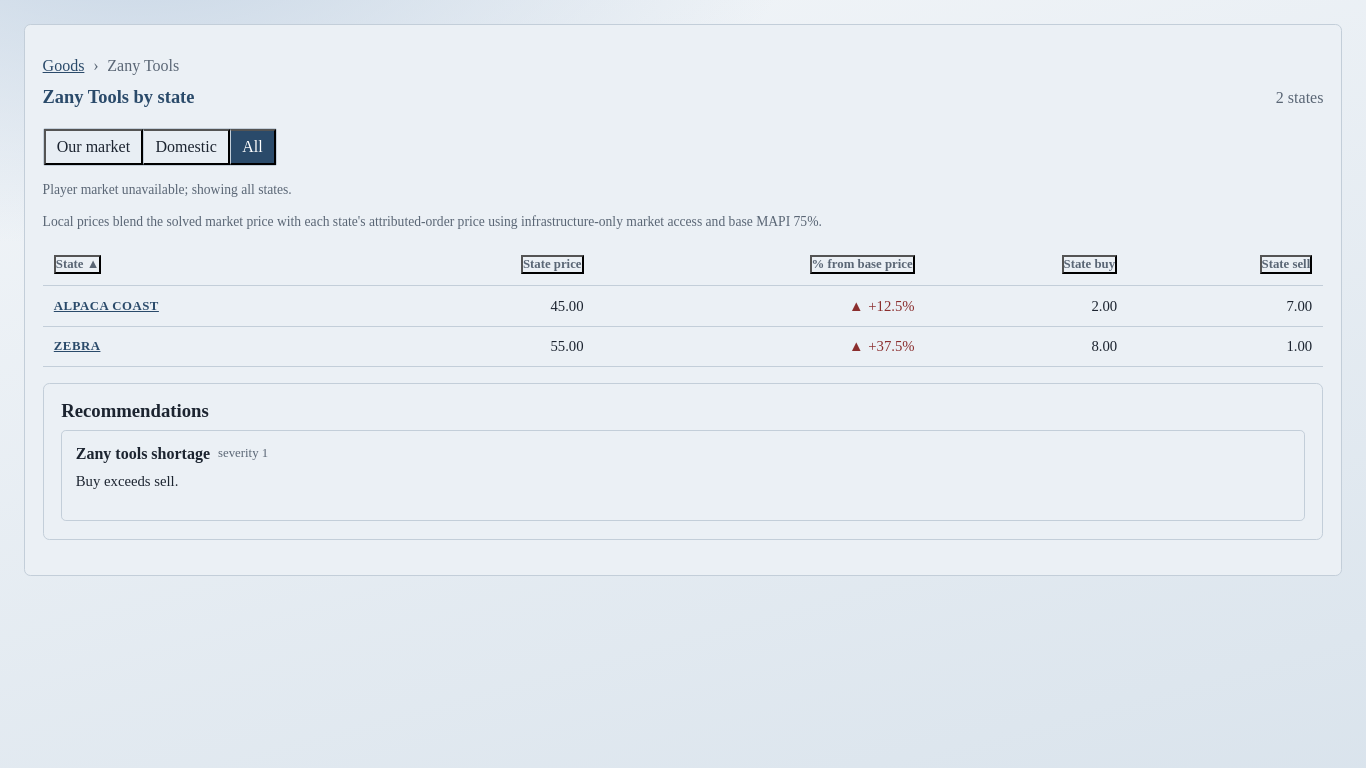
Scenario: PriceExplorer › shows local recommendations on a good page
expect the heading "Recommendations" is shown: met, box [61, 400, 209, 421]
Click the text "Zany tools shortage": click(143, 454) [76, 445, 210, 463]
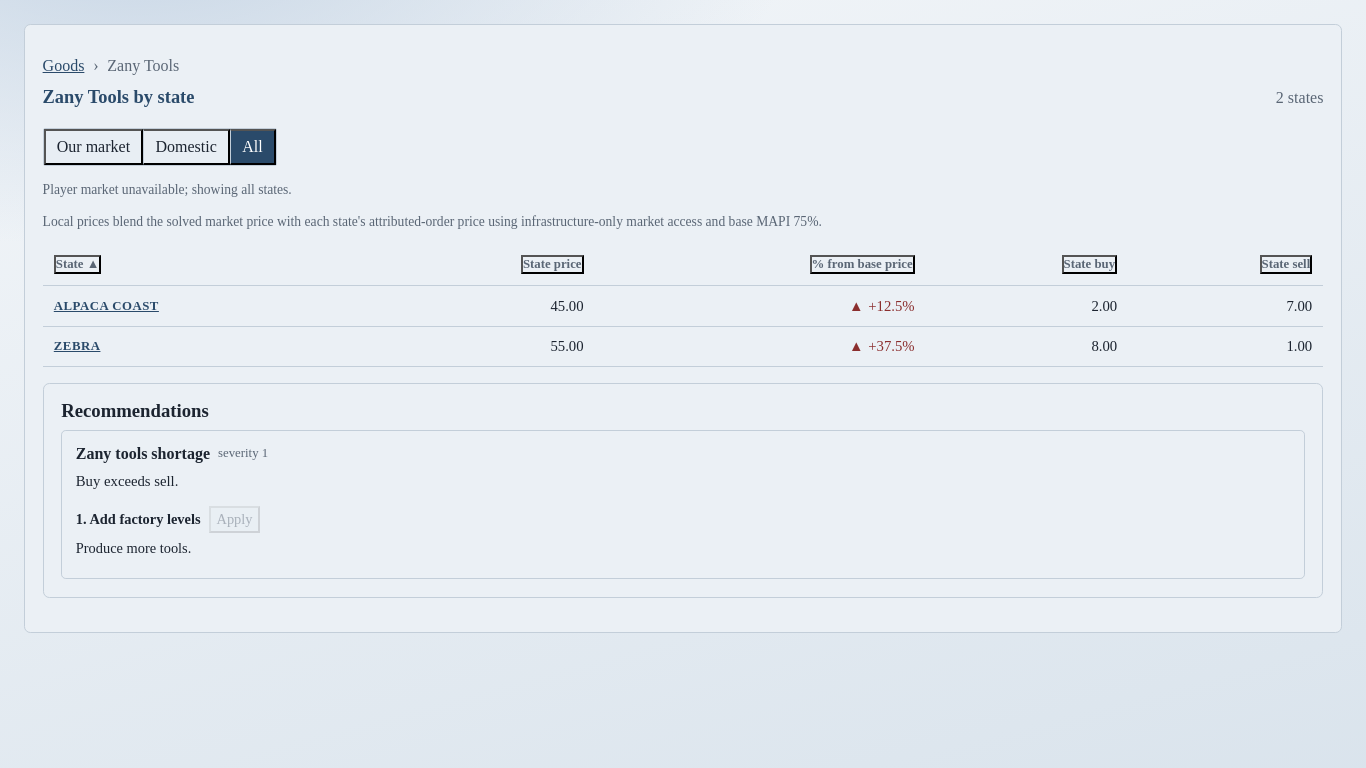
expect the text "1. Add factory levels" is shown: met, box [76, 510, 200, 530]
